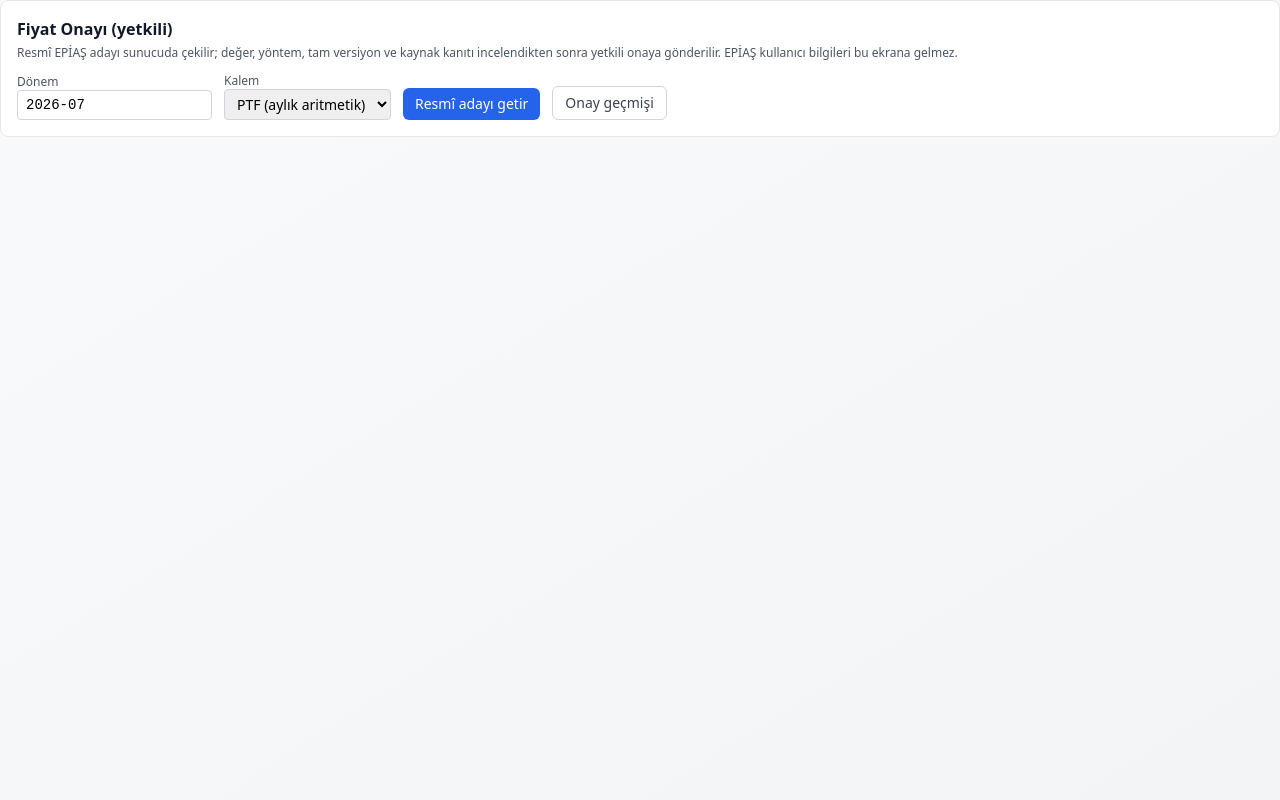
Scenario: FiyatOnayPaneli — kullanıcı akışı › 409 aday_degisti: hiçbir şey yazılmadı mesajı + yeni aday gösterilir, otomatik yeniden gönderim yok
Select "YEKDEM" in the dropdown named "Onay kalemi" at point(308, 104), box [224,89,391,120]
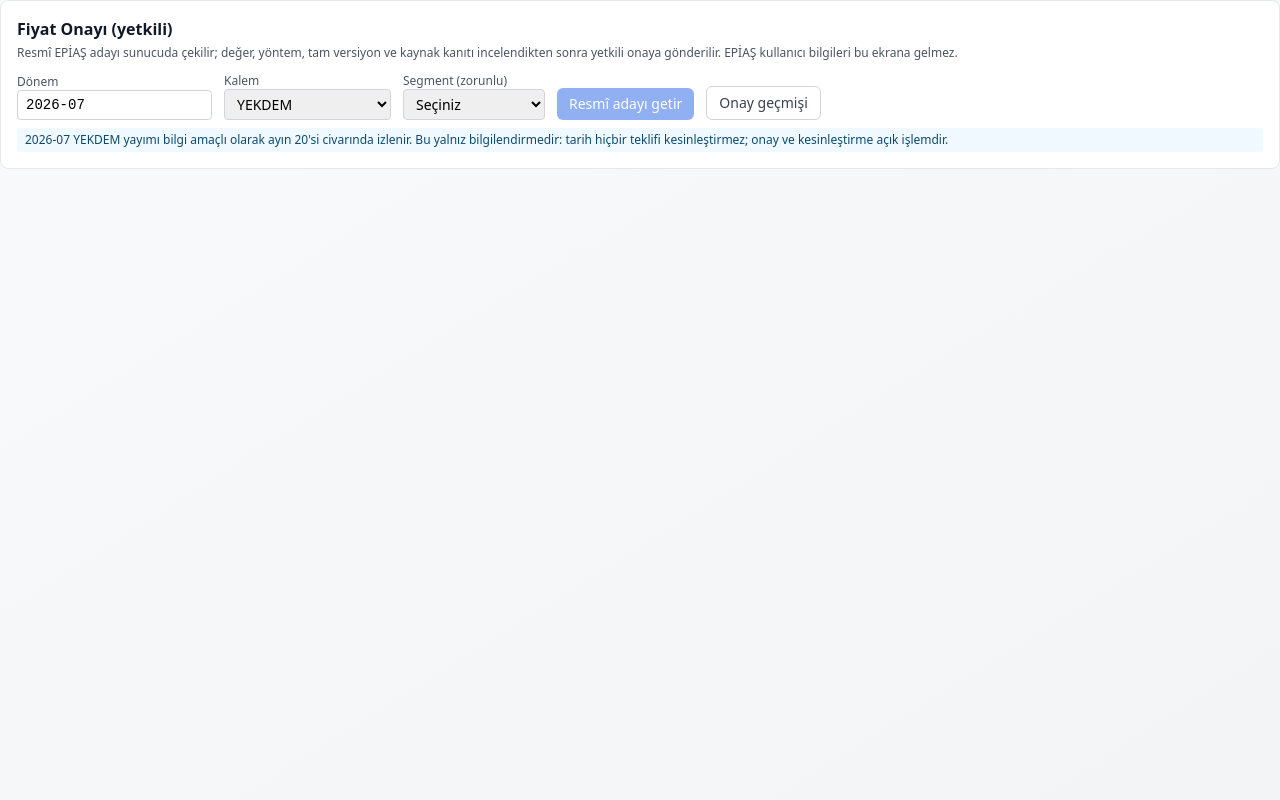
Select "GTŞ-K1" in the dropdown named "Onay segmenti" at point(474, 104), box [403,89,545,120]
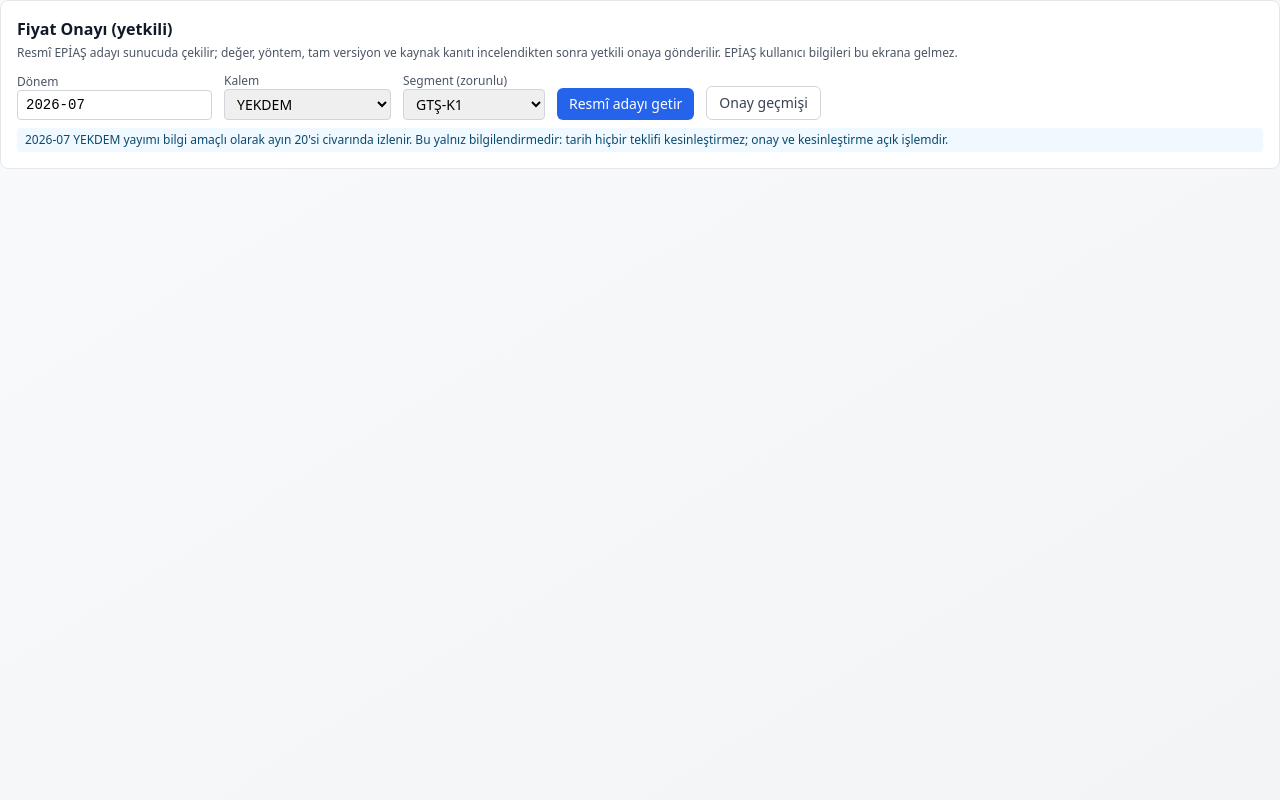
Click the button "Resmî adayı getir" at point(626, 104), box [557,88,694,120]
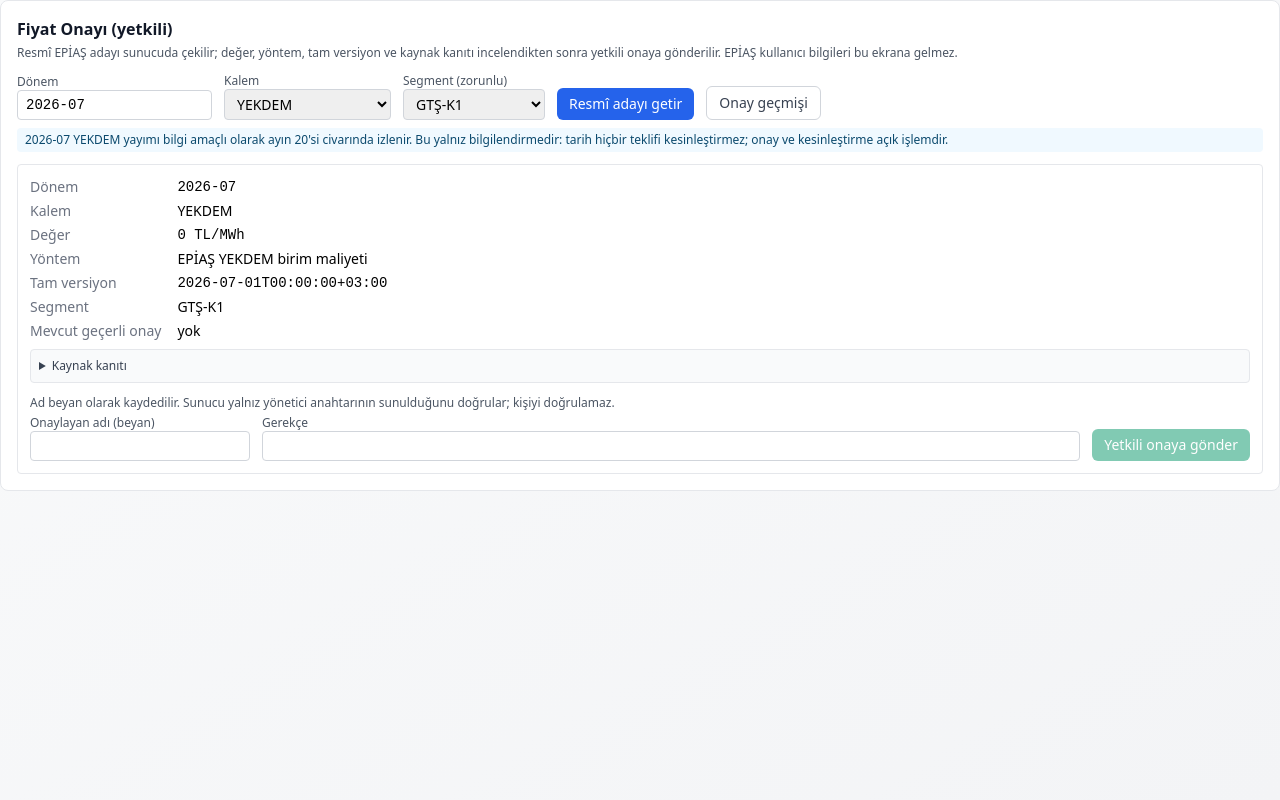
expect the text with test id "aday-versiyonu" reads "2026-07-01T00:00:00+03:00": met, box [177,275,387,291]
Type "Y" into the field labelled "Onaylayan adı (beyan)" at point(140, 446), box [30,431,250,461]
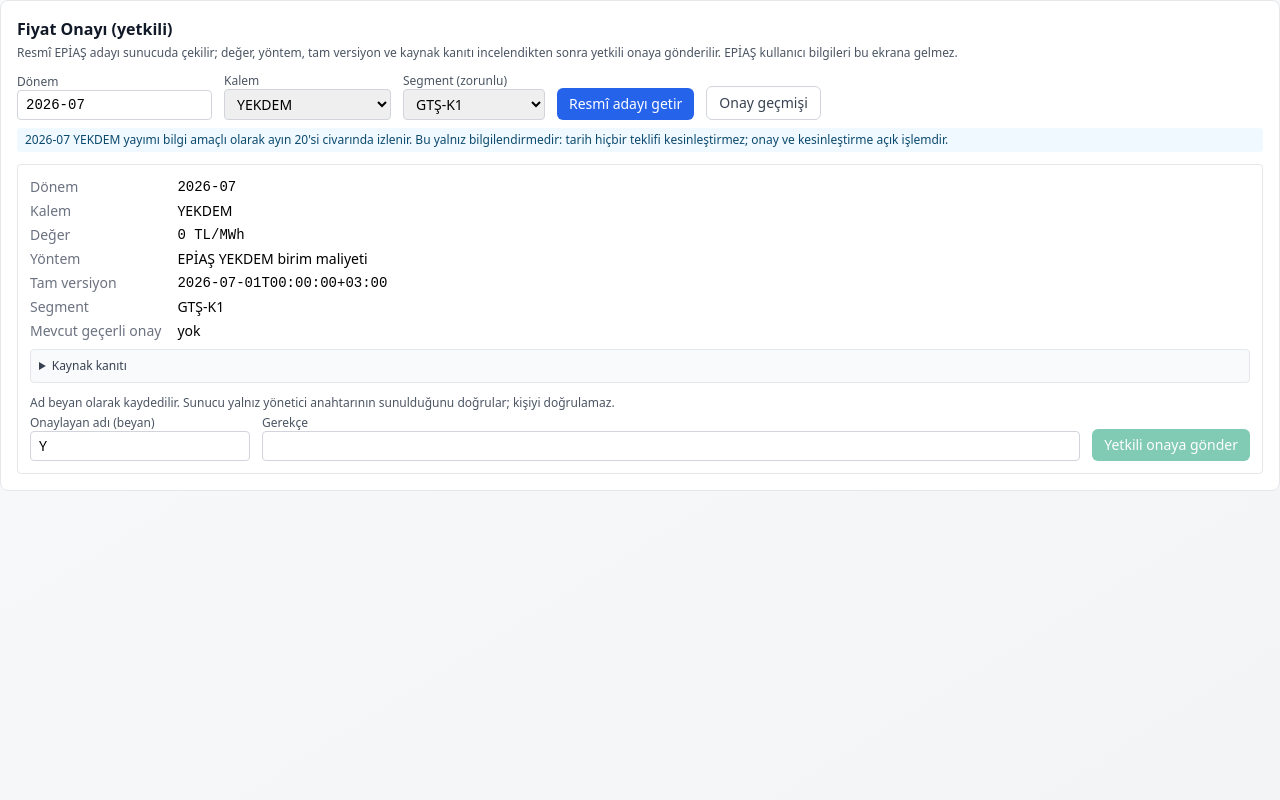
Type "g" into the field named "Onay gerekçesi" at point(671, 446), box [262,431,1080,461]
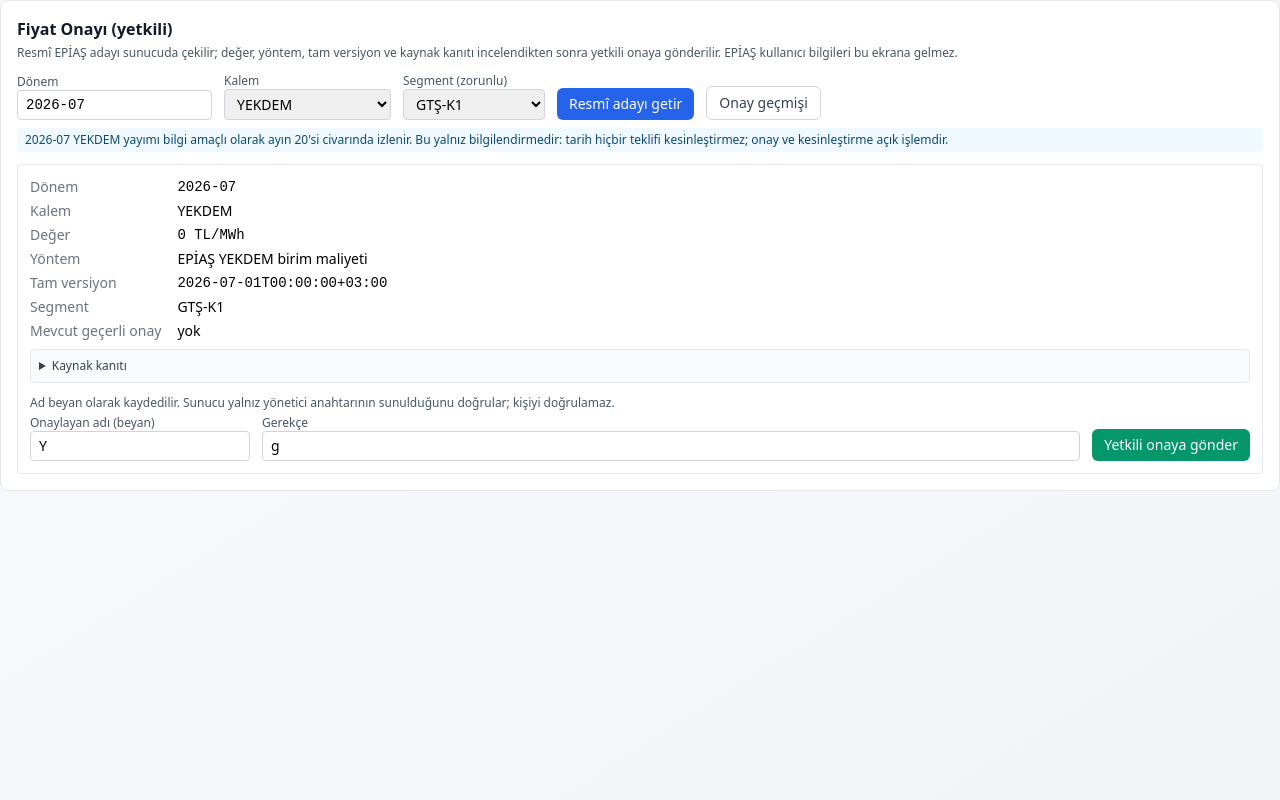
Click the button "Yetkili onaya gönder" at point(1171, 445), box [1092,429,1250,461]
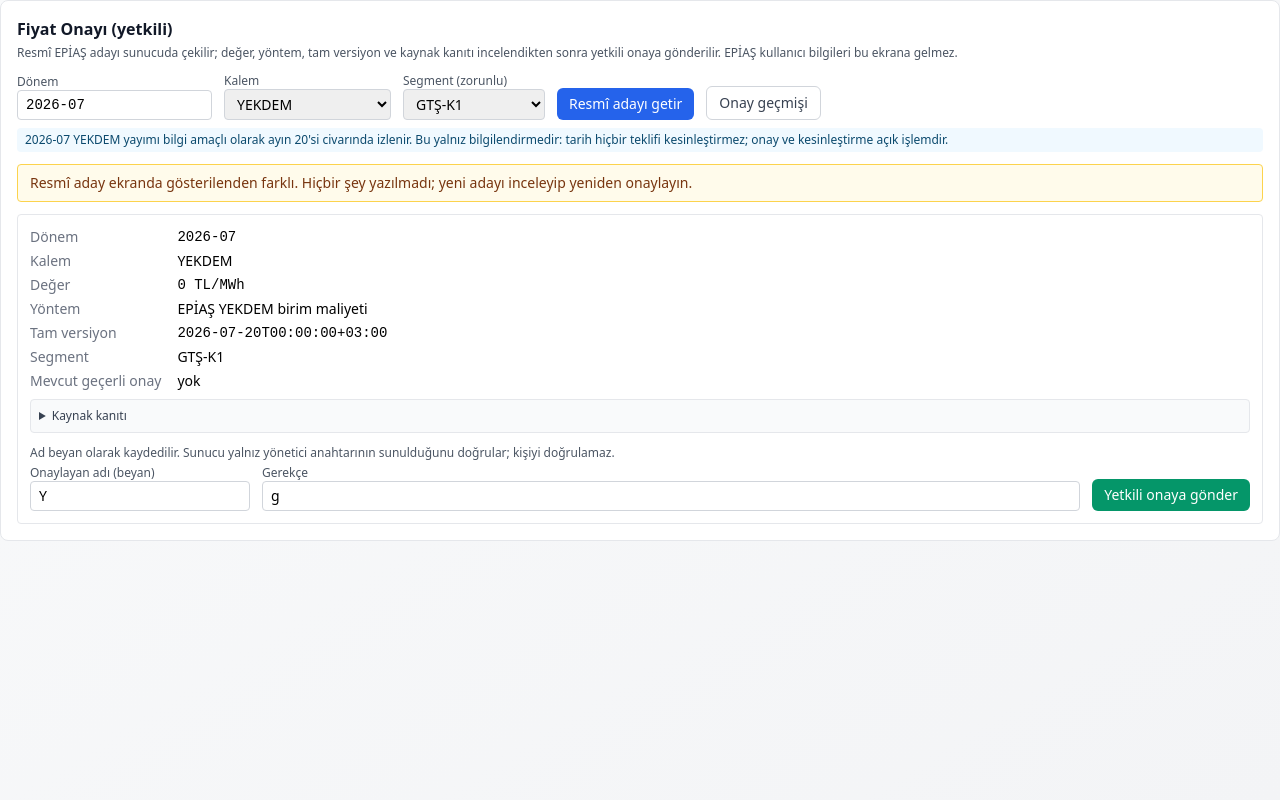
expect the message with test id "onay-hatasi" shows "Hiçbir şey yazılmadı": met, box [30,173,692,192]
expect the text with test id "aday-versiyonu" reads "2026-07-20T00:00:00+03:00": met, box [177,325,387,341]
